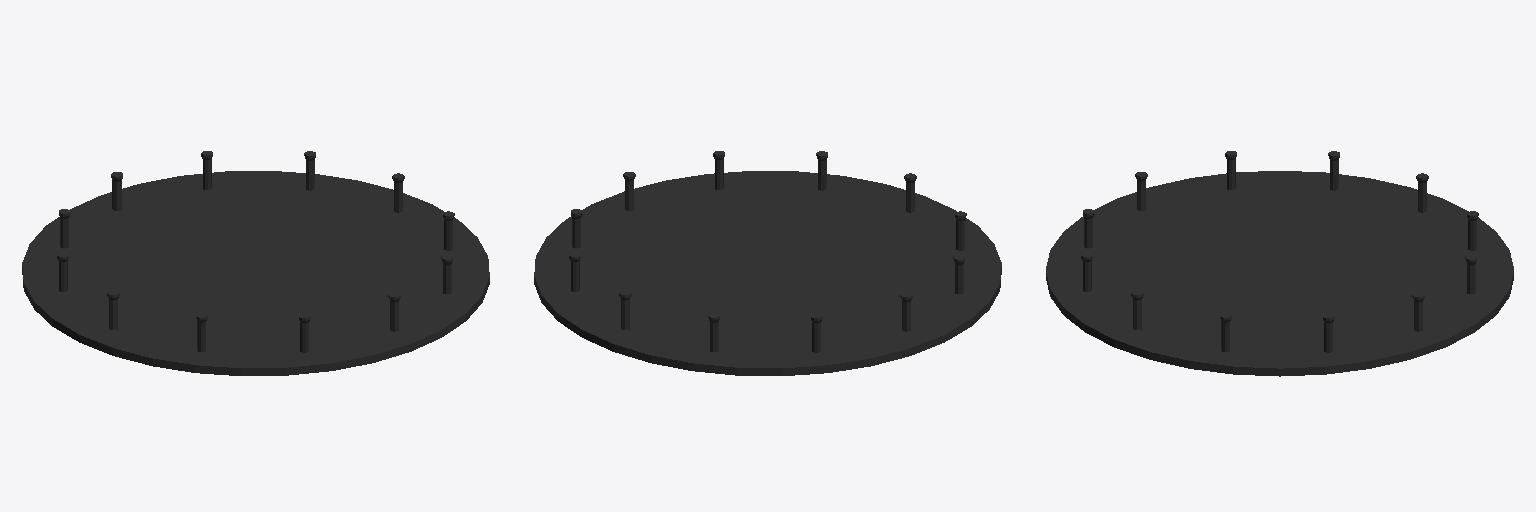
Rendered from map_draft._realobj.obj.
3 renders of one model, left to right at view 1: azimuth 30°, elevation 25°; view 2: azimuth 150°, elevation 25°; view 3: azimuth 270°, elevation 25°, orthographic.
Visible parts, largest first — view 1: MainPlat-col; view 2: MainPlat-col; view 3: MainPlat-col.
Part boxes in pixels (left/top/right/bottom): MainPlat-col: left=22, top=171, right=489, bottom=375; MainPlat-col: left=534, top=171, right=1001, bottom=375; MainPlat-col: left=1046, top=171, right=1513, bottom=376.
Size of the model in its own units: 28.72 by 2.91 by 28.72.